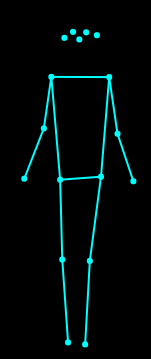mountain: (18, 20, 140, 349)
